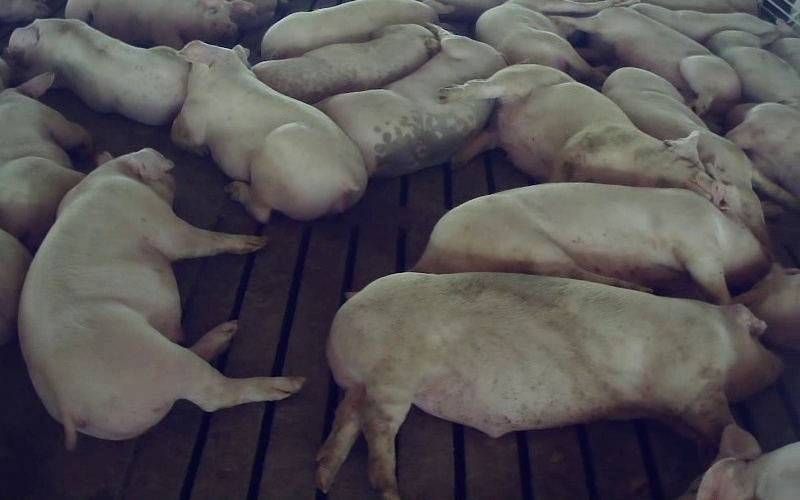pig: (317, 274, 780, 499), (18, 148, 302, 447), (414, 183, 770, 303), (439, 64, 723, 202), (172, 41, 367, 221), (316, 24, 505, 175), (557, 7, 739, 114), (7, 19, 189, 124), (0, 73, 90, 250), (252, 25, 438, 103), (261, 0, 453, 59), (475, 3, 605, 86), (65, 0, 255, 48), (705, 30, 799, 108), (726, 103, 799, 196), (630, 3, 795, 42)
